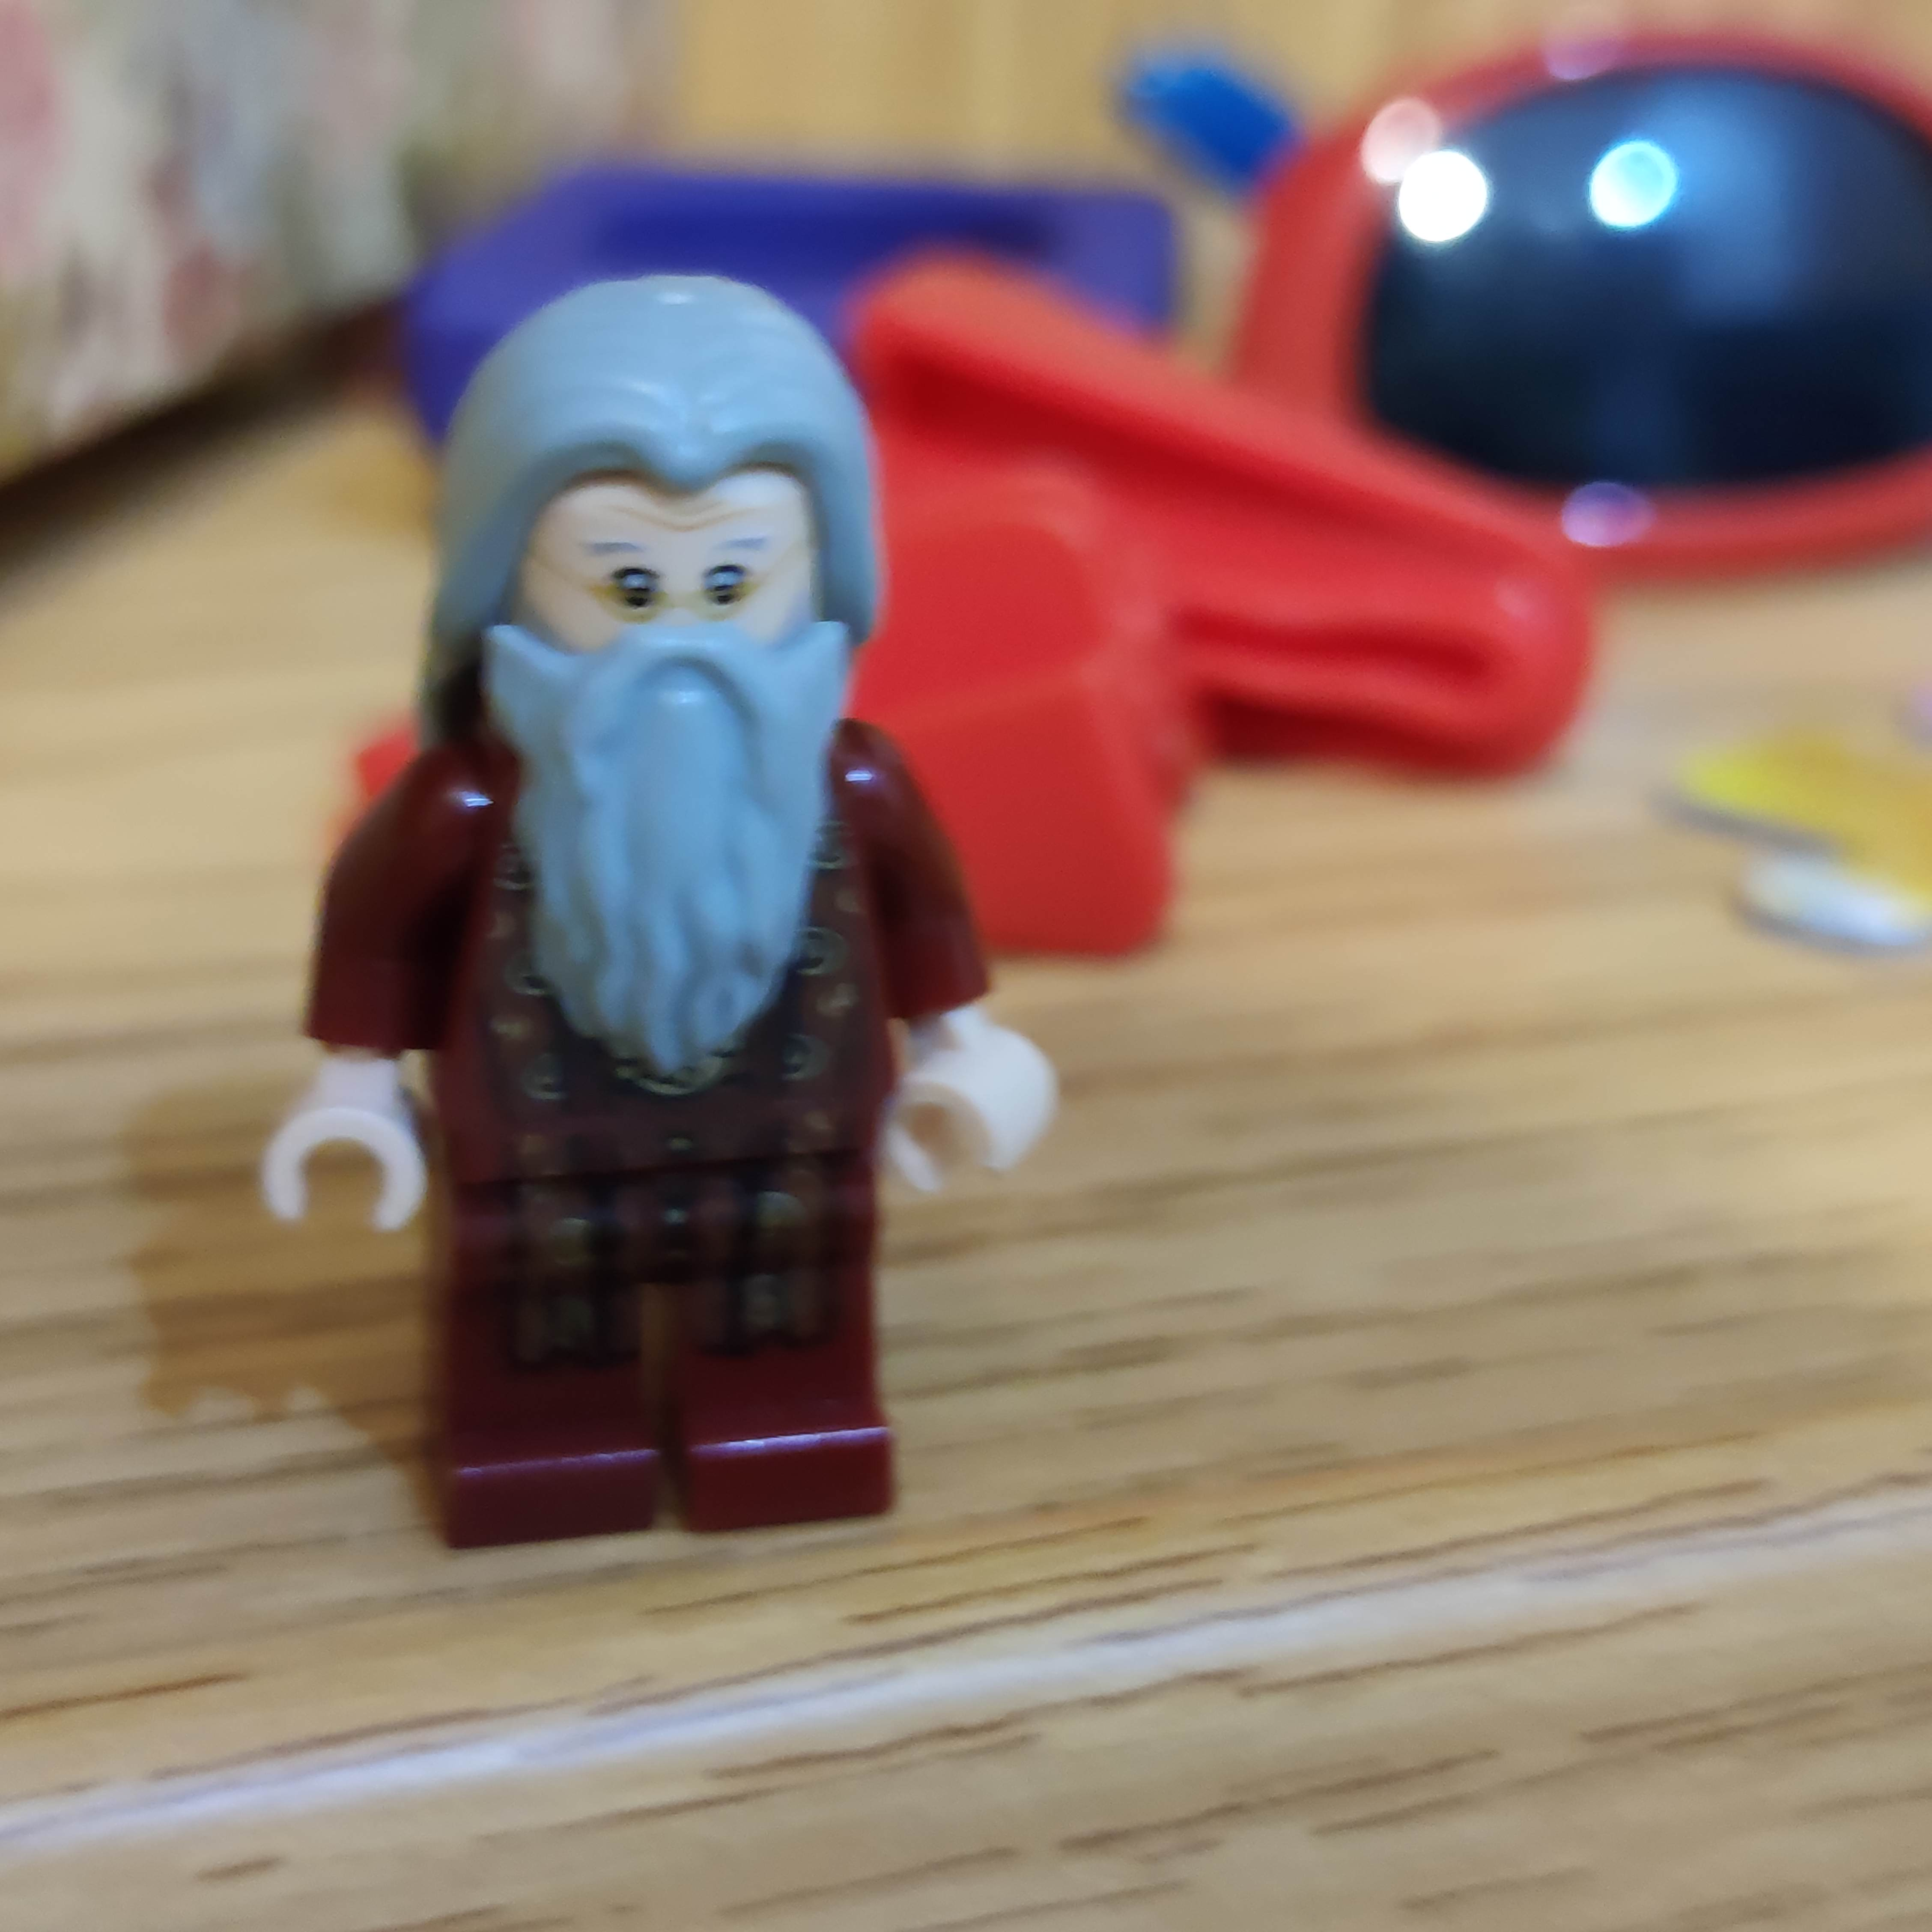lego: (267, 260, 1072, 1562)
